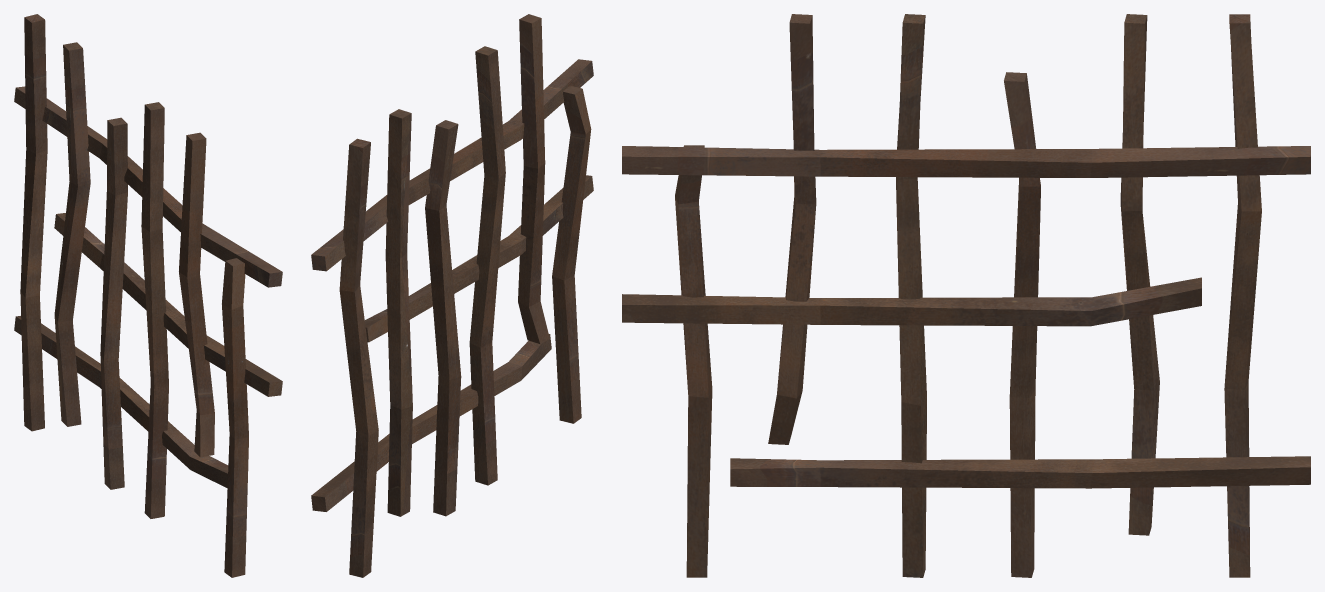
File: cage1_GEO.fbx
3 views of the same model, side by side, from view 1: azimuth 30°, elevation 25°; view 2: azimuth 150°, elevation 25°; view 3: azimuth 270°, elevation 25° (orthographic). The views are drawn at different scales.
Visible parts, largest first — view 1: cage1_GEO; view 2: cage1_GEO; view 3: cage1_GEO.
Part boxes in pixels (x1=…): cage1_GEO: x1=14, y1=14, x2=282, y2=577; cage1_GEO: x1=311, y1=14, x2=593, y2=577; cage1_GEO: x1=622, y1=14, x2=1310, y2=577.
Bounding box in the file's own units: 0.2111 × 2.05 × 2.31.
